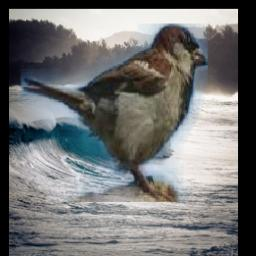Sparrow: (21, 24, 209, 202)
